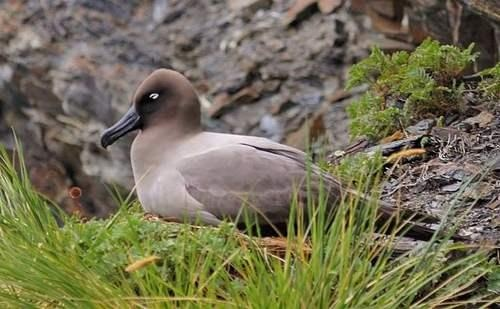bird: (98, 67, 441, 240)
